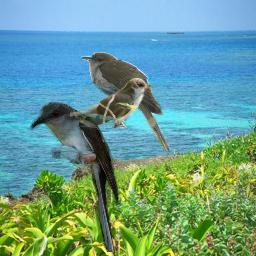Cuckoo: (30, 102, 122, 252), (81, 52, 170, 154), (70, 77, 153, 128)
